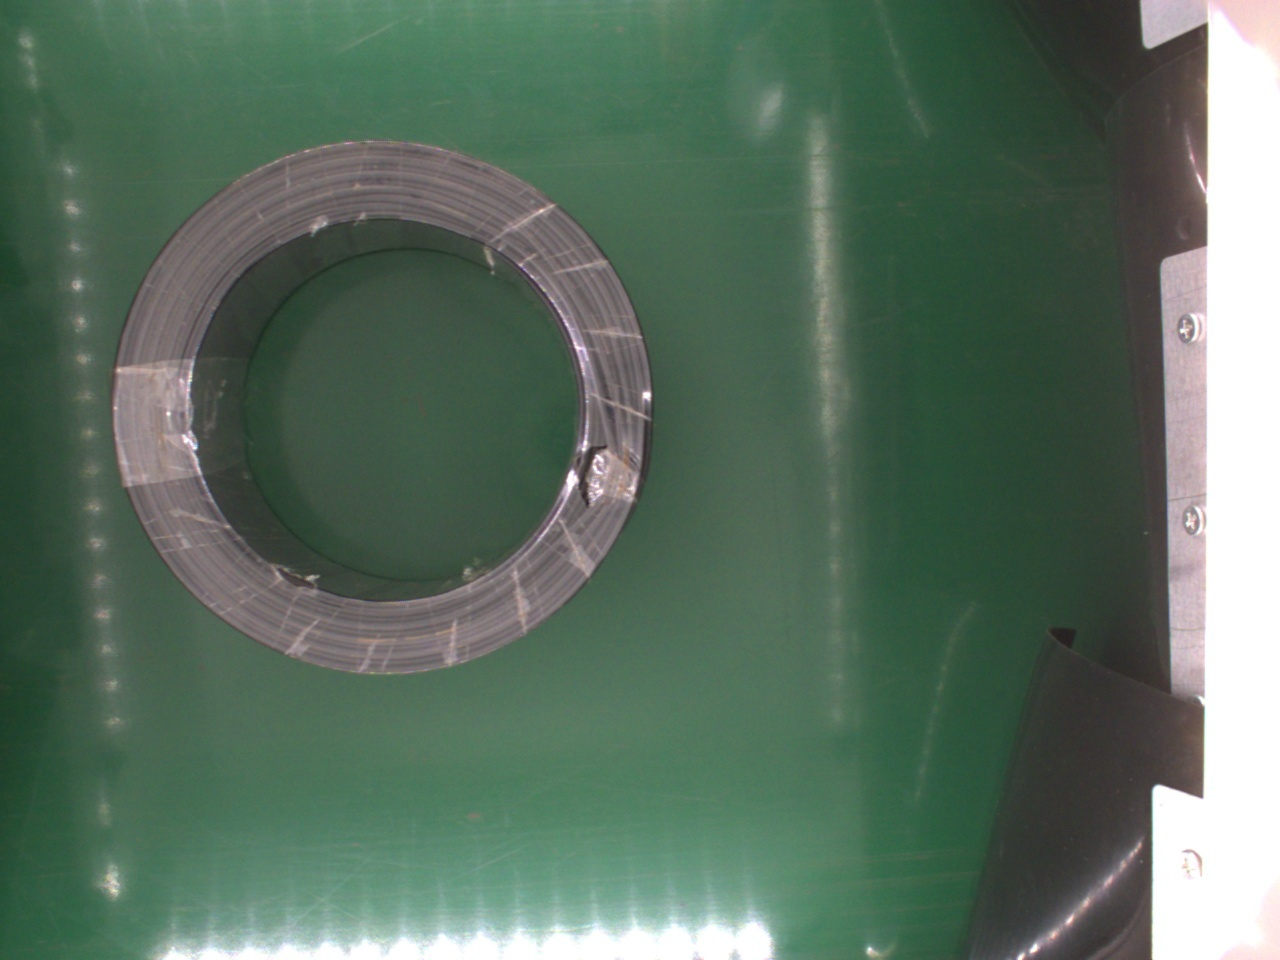black: (113, 137, 650, 676)
